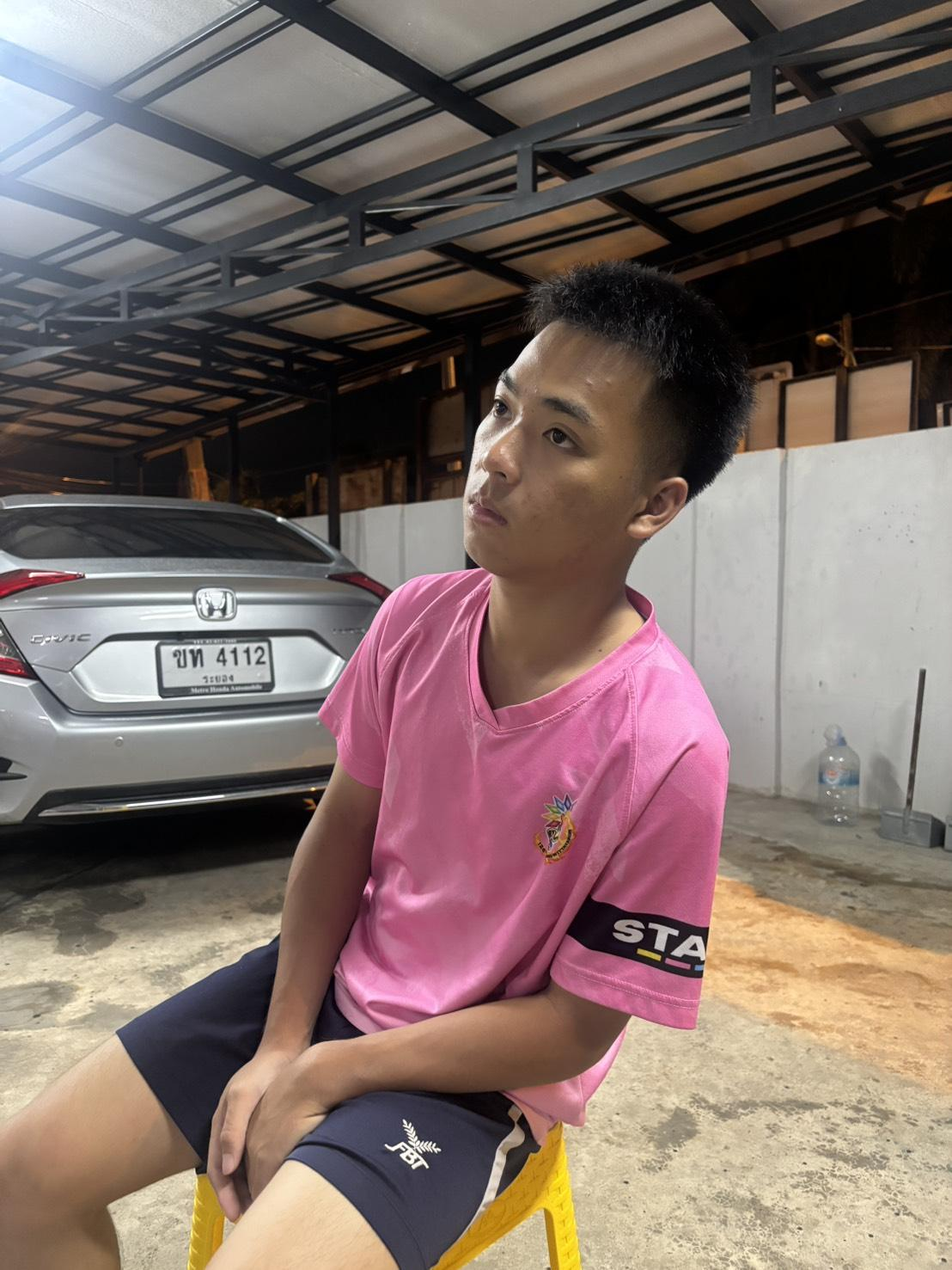BadPosture: (117, 262, 752, 1269)
